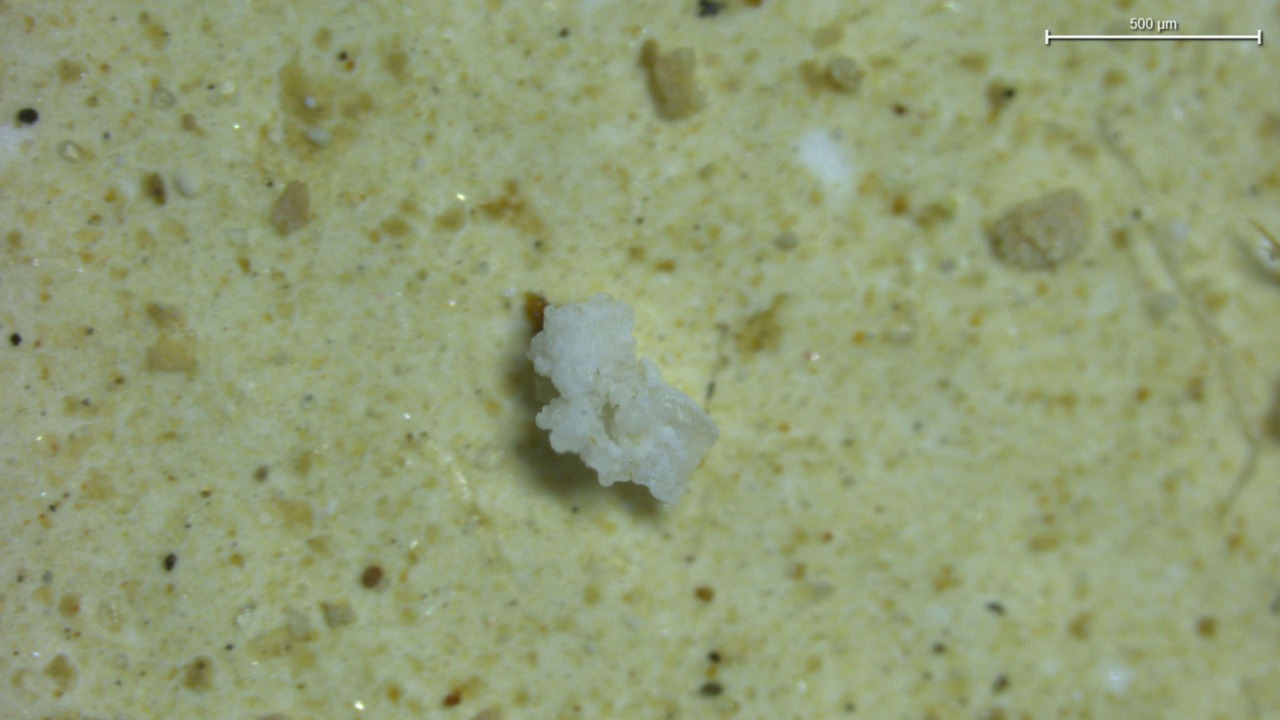microplastic_fragment: (528, 294, 719, 503)
